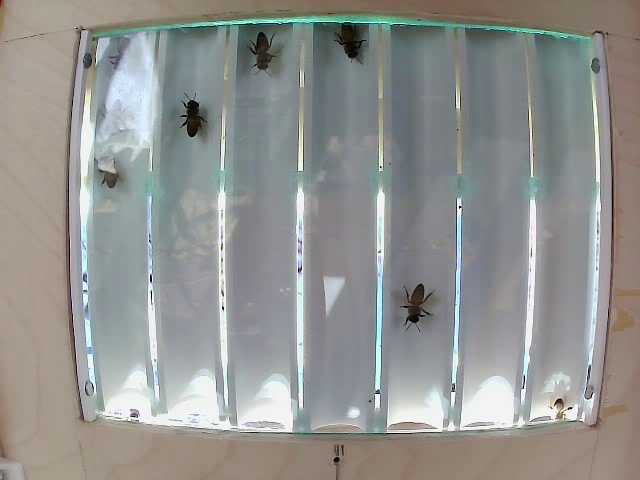bee: (386, 273, 444, 342), (333, 15, 376, 88), (169, 91, 216, 151), (238, 21, 282, 77)
